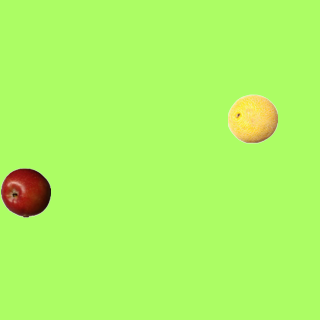Apple Braeburn: (0, 167, 50, 217)
Cantaloupe 1: (227, 93, 277, 143)
